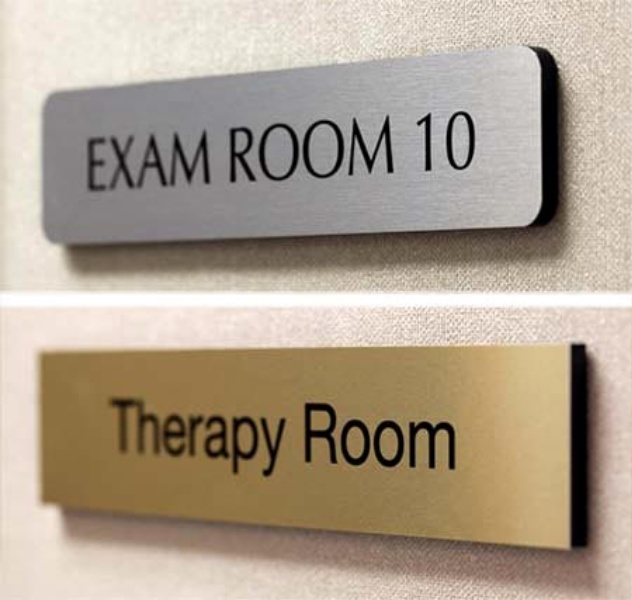text: (113, 395, 128, 484), (129, 395, 144, 484), (145, 395, 160, 484), (161, 395, 176, 484), (177, 395, 192, 484), (193, 395, 208, 484), (209, 395, 224, 484), (225, 395, 240, 484), (241, 395, 256, 484), (257, 395, 272, 484), (273, 395, 288, 484), (241, 112, 256, 187), (257, 112, 272, 187), (273, 112, 288, 187), (289, 112, 304, 187), (305, 112, 320, 187), (321, 112, 336, 187), (337, 112, 352, 187), (353, 112, 368, 187), (369, 112, 384, 187), (305, 402, 320, 473), (321, 402, 336, 473), (337, 402, 352, 473), (353, 402, 368, 473), (369, 402, 384, 473), (385, 402, 400, 473), (401, 402, 416, 473), (417, 402, 432, 473), (433, 402, 448, 473), (97, 126, 112, 196), (113, 126, 128, 196), (129, 126, 144, 196), (145, 126, 160, 196), (161, 126, 176, 196), (177, 126, 192, 196), (193, 126, 208, 196), (227, 112, 240, 187), (417, 110, 432, 173), (433, 110, 448, 173), (449, 110, 464, 173), (385, 112, 397, 187), (465, 110, 477, 173), (86, 126, 96, 196), (449, 402, 458, 473), (209, 126, 213, 196), (302, 402, 304, 473), (111, 395, 112, 484), (289, 395, 290, 484)
